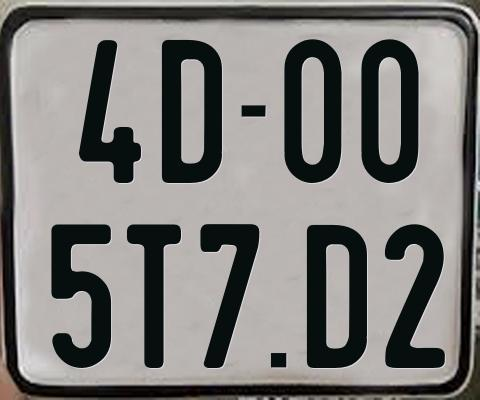0: (284, 38, 348, 187), (360, 38, 421, 184)
2: (382, 221, 448, 368)
4: (78, 40, 141, 187)
5: (48, 223, 113, 369)
7: (200, 221, 264, 369)
D: (306, 223, 368, 372), (162, 39, 224, 184)
T: (124, 221, 180, 366)
